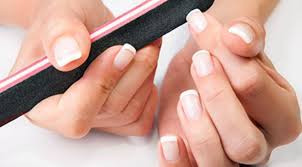nail: (52, 35, 82, 66), (179, 89, 202, 119), (228, 20, 255, 45), (158, 135, 181, 162), (115, 43, 136, 72), (185, 8, 206, 33), (192, 49, 211, 76)
